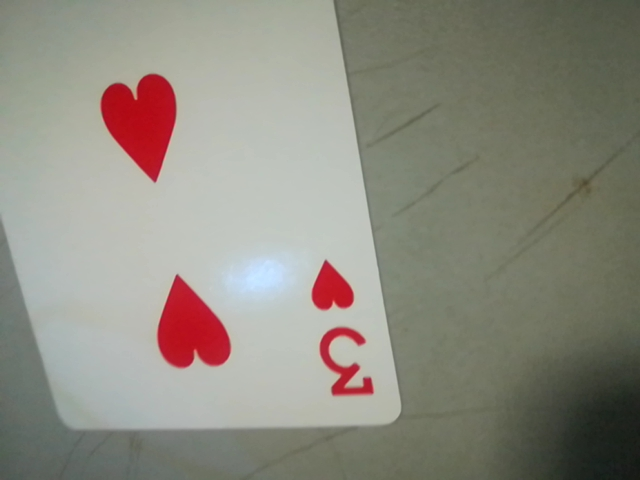hx 3: (299, 241, 386, 413)
